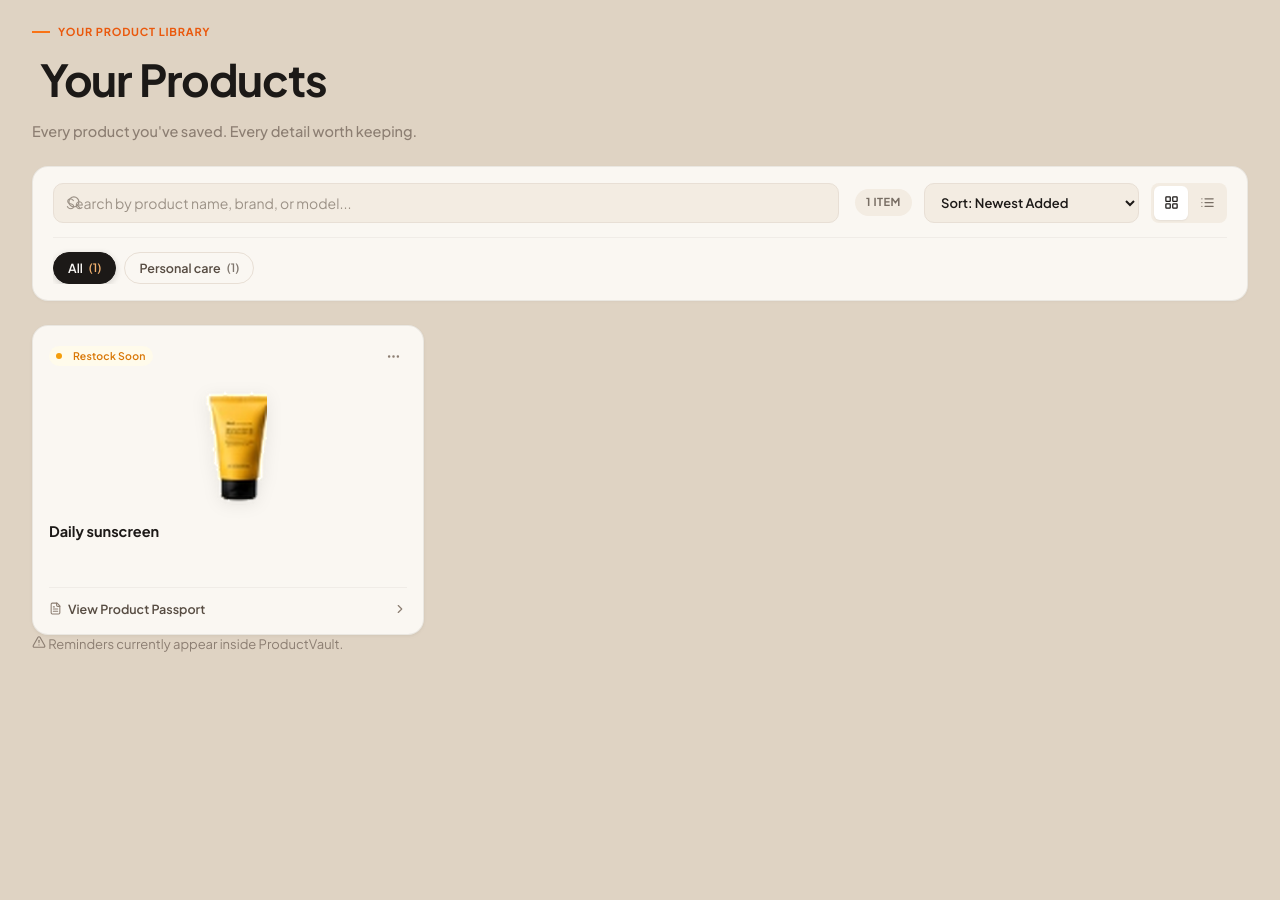
Test: account-backed product tools › opens dedicated Product Passport showing actual available details without fabricating missing data
The image size is (1280, 900).
# Click to open product passport
Click the button with aria-label "view timeline for daily sunscreen": (137,609) [49, 596, 407, 622]
(page scrolled)
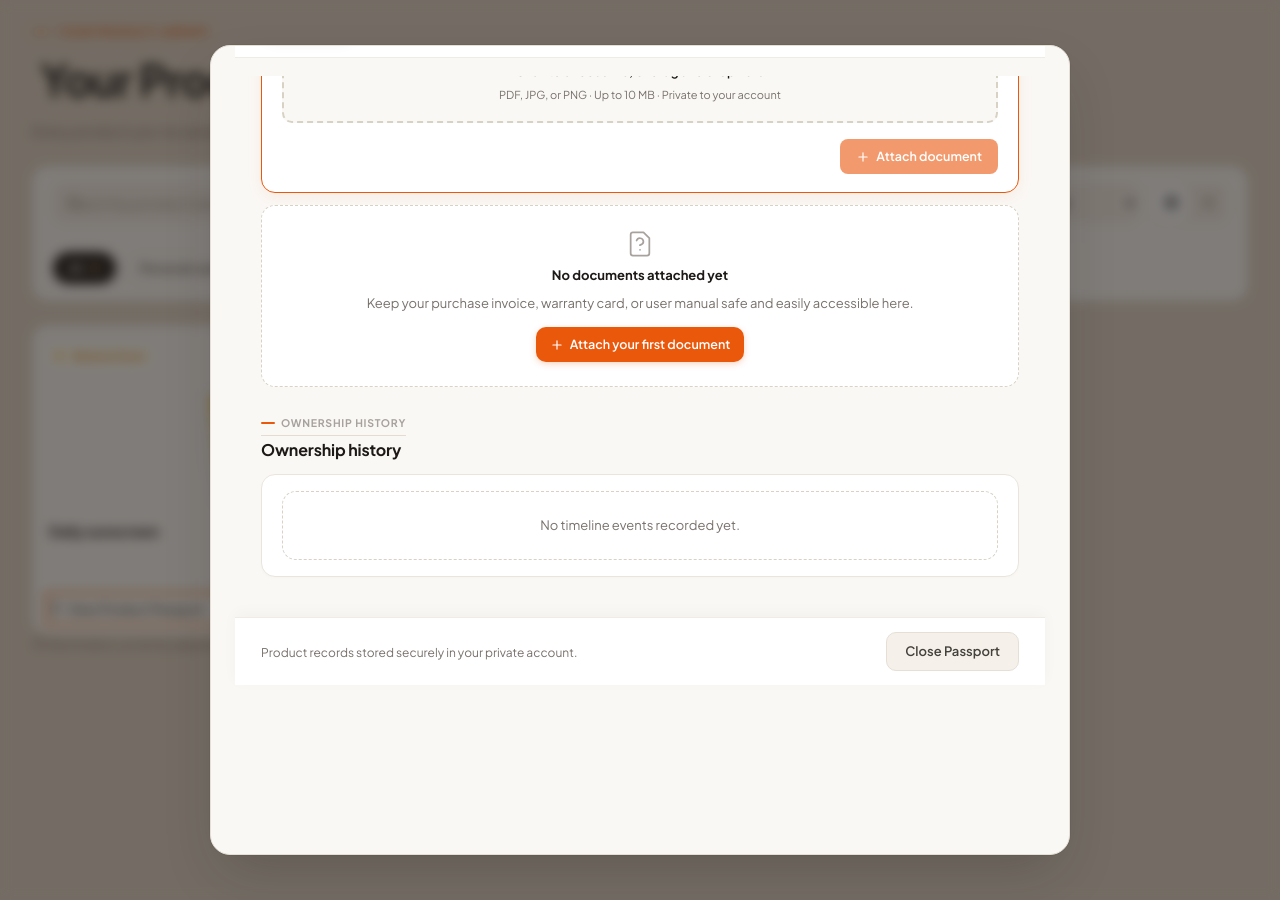
Expected: the heading named "daily sunscreen timeline" is shown, [261, 438, 406, 462]
